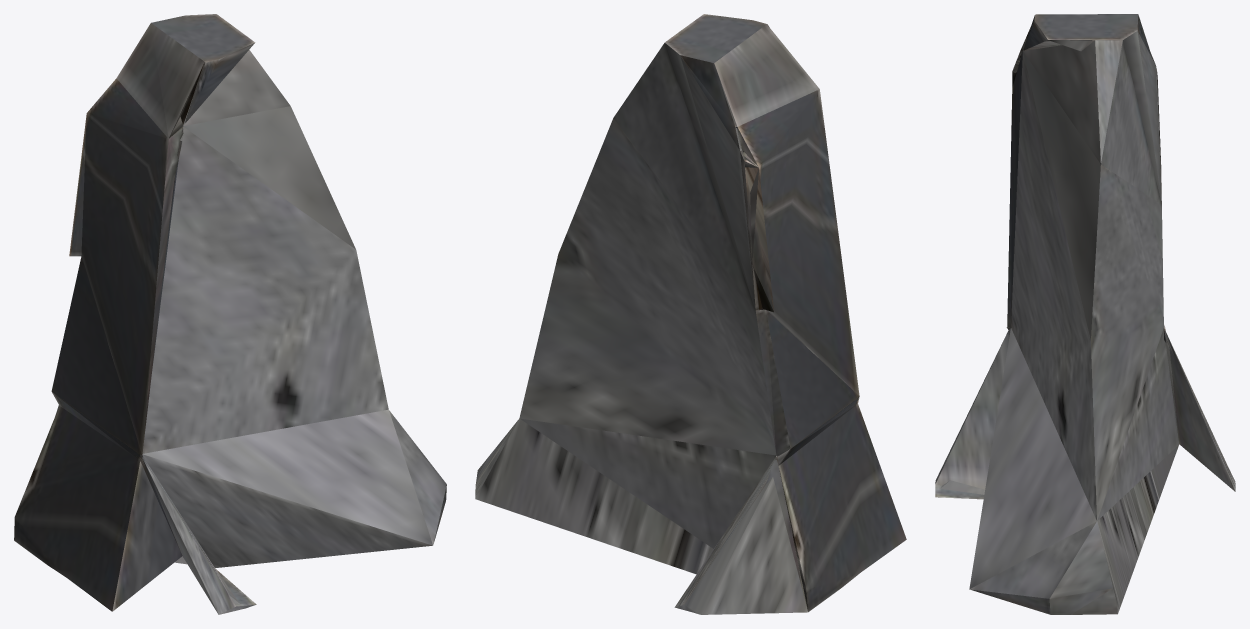
The model's file is shared_rubble_kit__wall_stub_tall_lod2.glb.
3 views of the same model, side by side, from view 1: azimuth 30°, elevation 25°; view 2: azimuth 150°, elevation 25°; view 3: azimuth 270°, elevation 25° (orthographic). The views are drawn at different scales.
Parts seen in each view (by area): view 1: mesh_node; view 2: mesh_node; view 3: mesh_node.
Part boxes in pixels (x1,y1,x2,y2): mesh_node: [14, 14, 446, 614]; mesh_node: [475, 14, 906, 614]; mesh_node: [935, 14, 1235, 614].
Bounding box in the file's own units: 4.37 × 5.79 × 3.25.
Materials: 1 (1 with a texture image).
